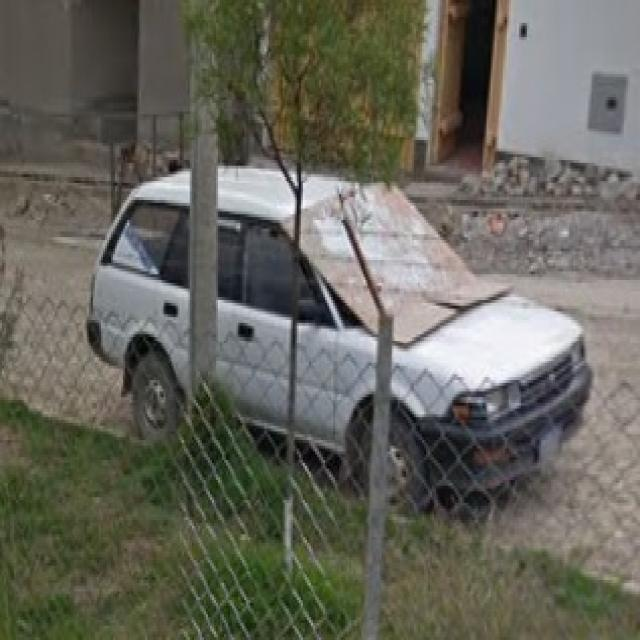cars: (93, 153, 587, 508)
